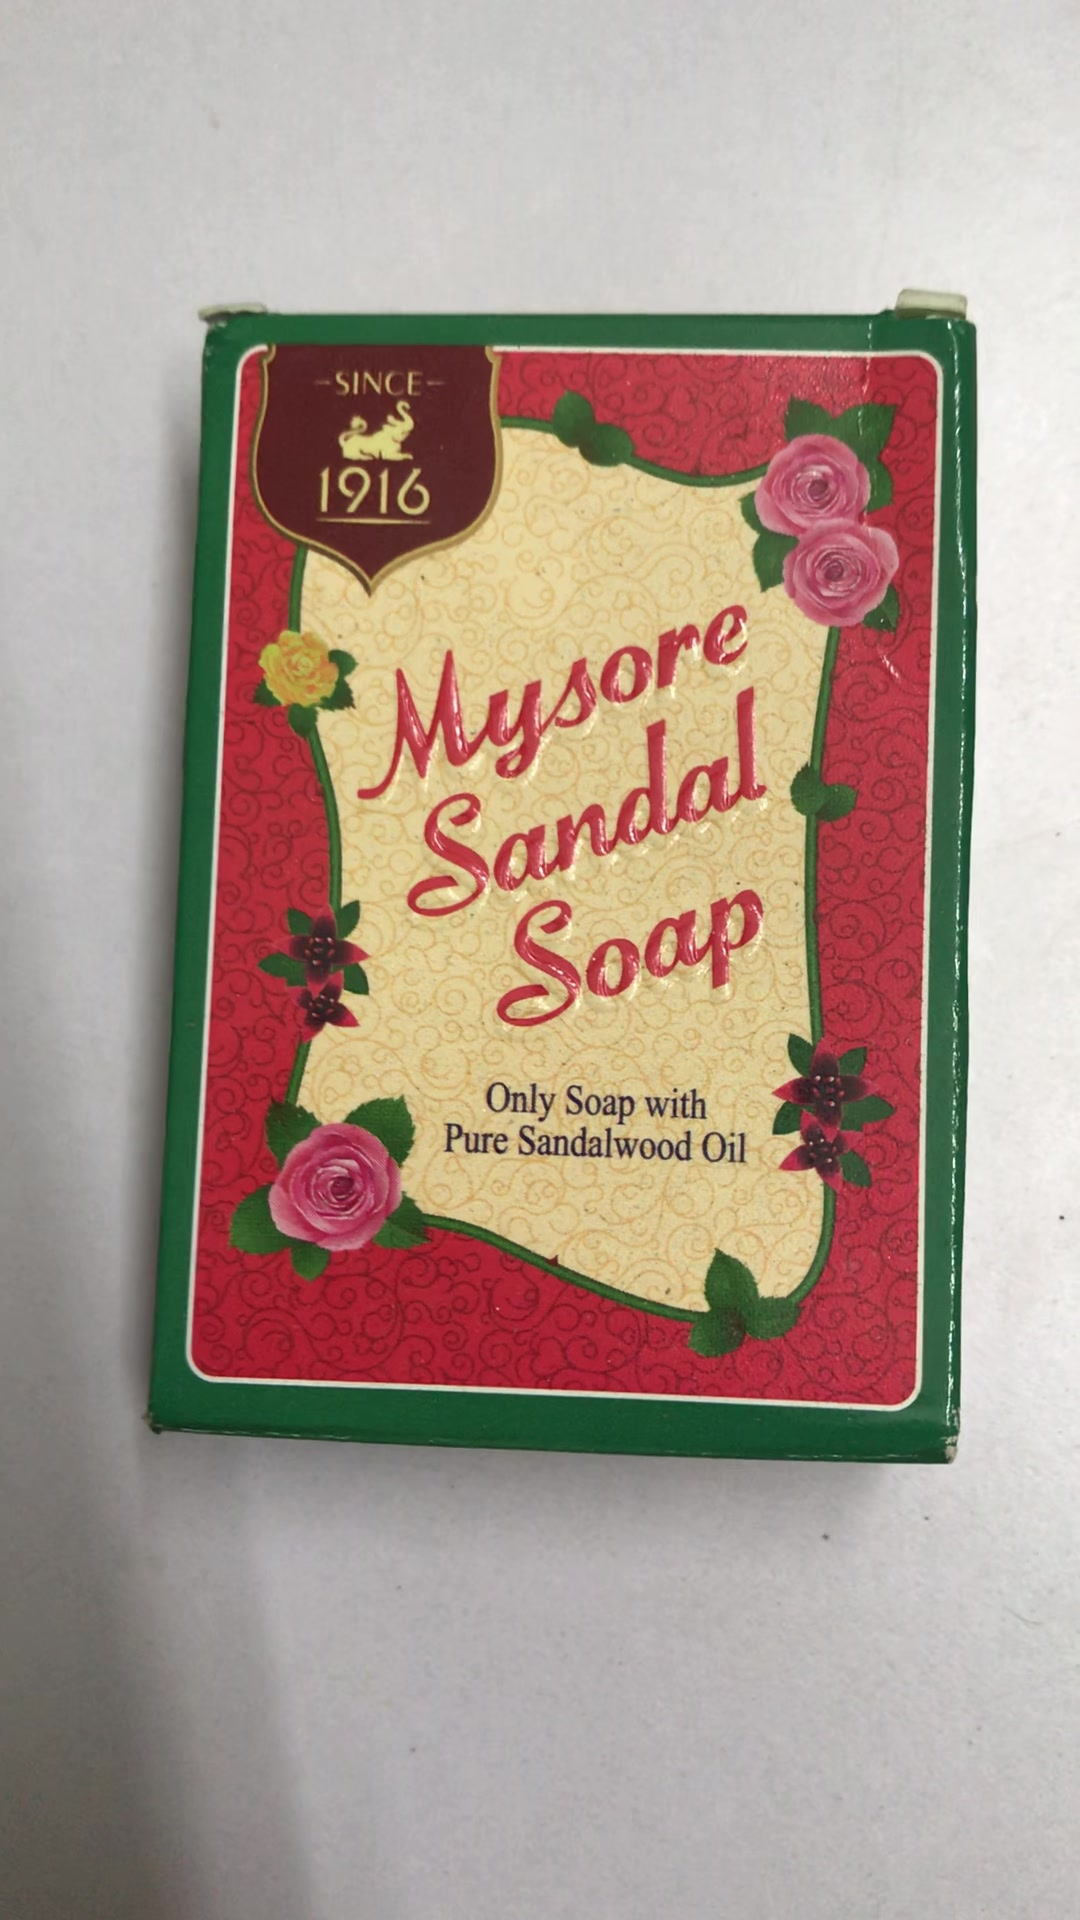mysore sandal soap: (160, 309, 963, 1452)
